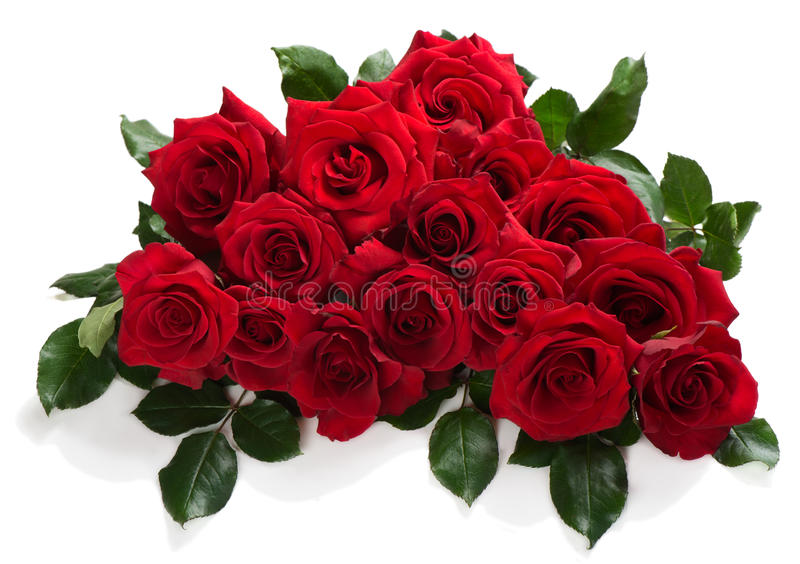RedRose: (377, 20, 533, 168), (279, 85, 427, 227), (136, 98, 284, 233), (340, 238, 475, 380), (486, 303, 630, 432), (558, 232, 717, 345), (108, 228, 225, 377), (633, 324, 746, 458), (449, 250, 581, 356), (296, 303, 401, 436), (226, 188, 353, 295), (507, 172, 657, 261), (399, 168, 517, 270), (226, 288, 316, 404), (472, 117, 558, 194)
